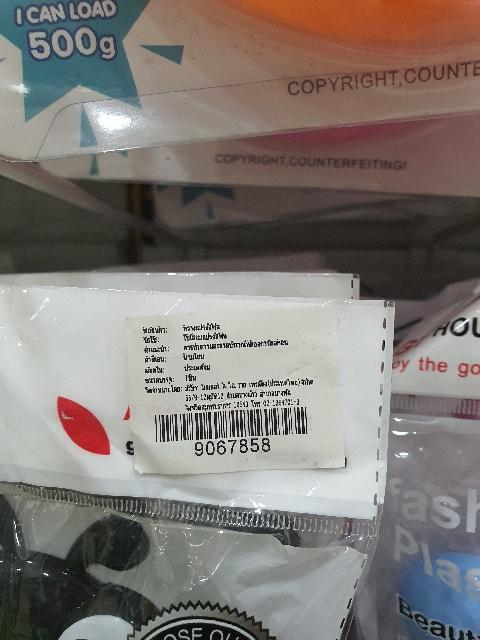Barcode: (140, 401, 326, 463)
